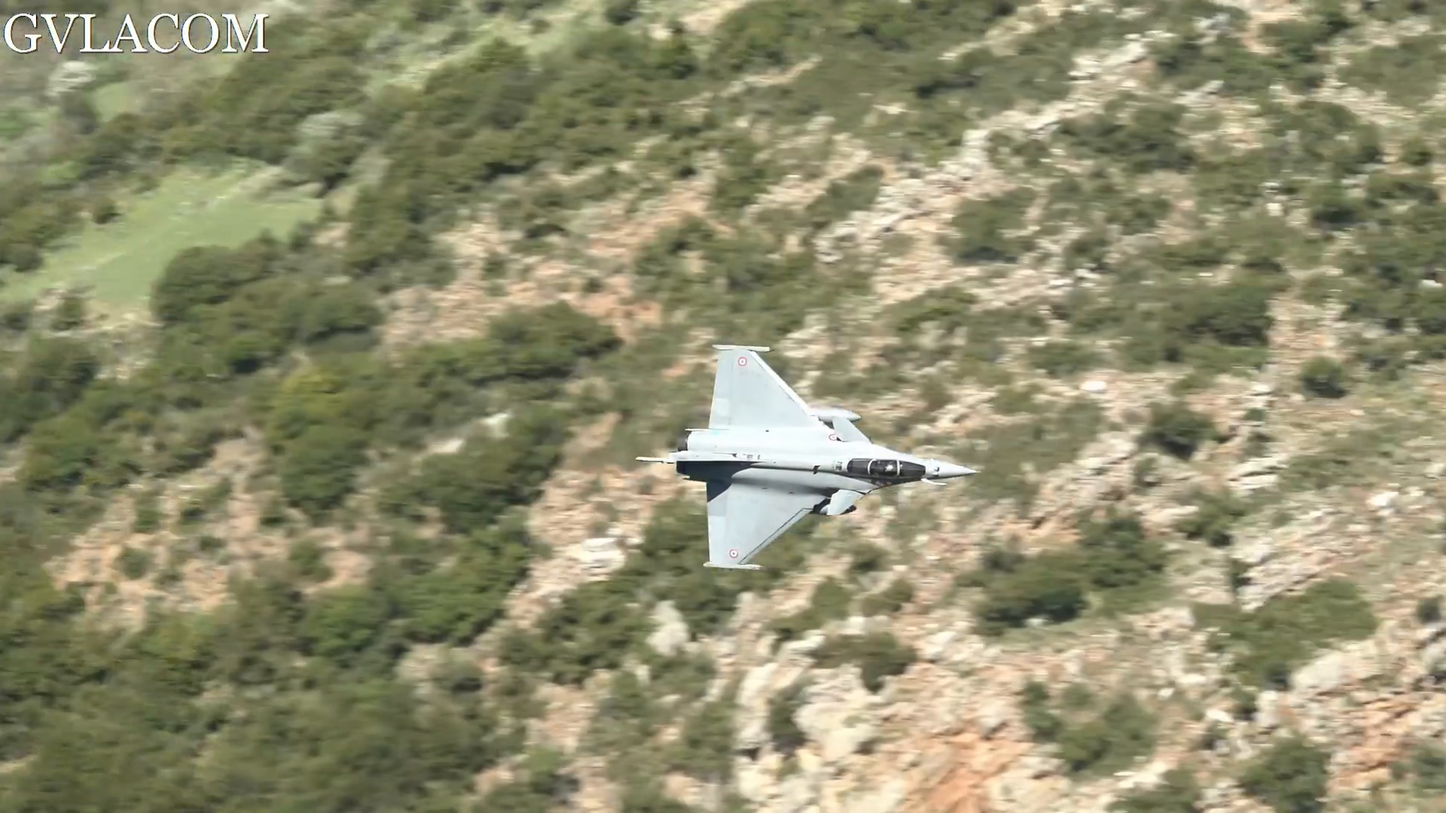Rafale: (635, 342, 981, 573)
